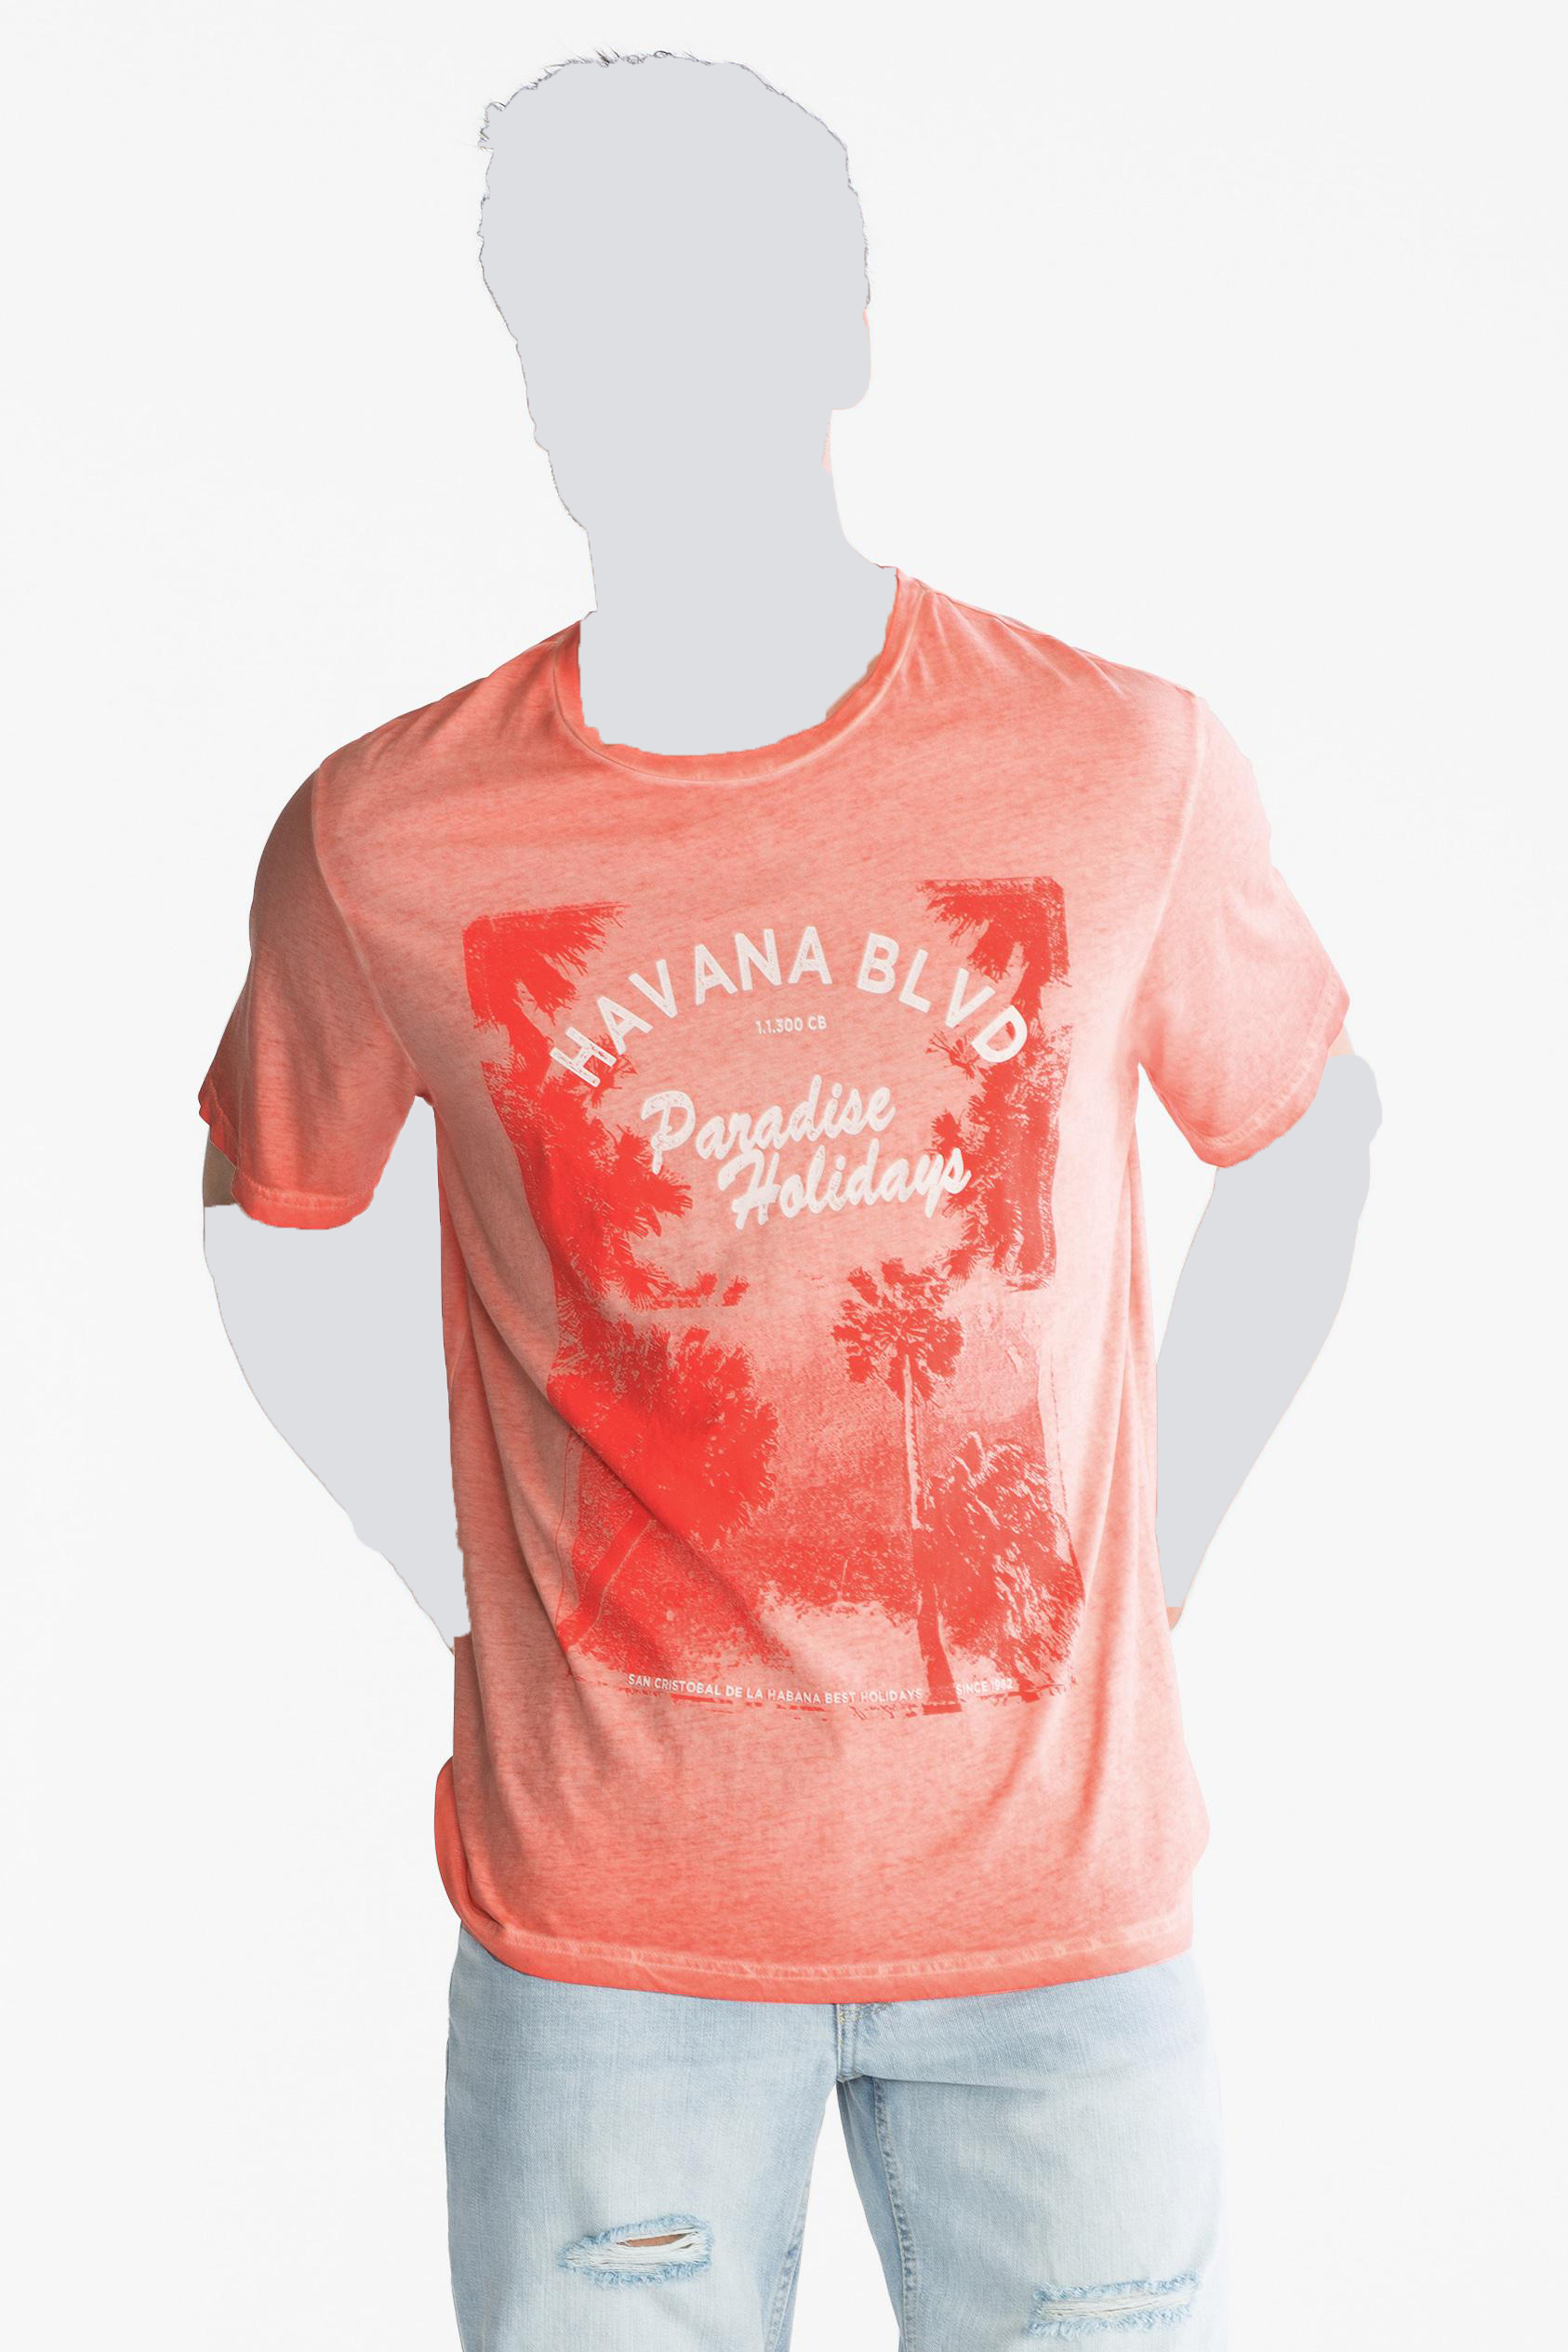teeshirt: (166, 563, 1379, 1977)
